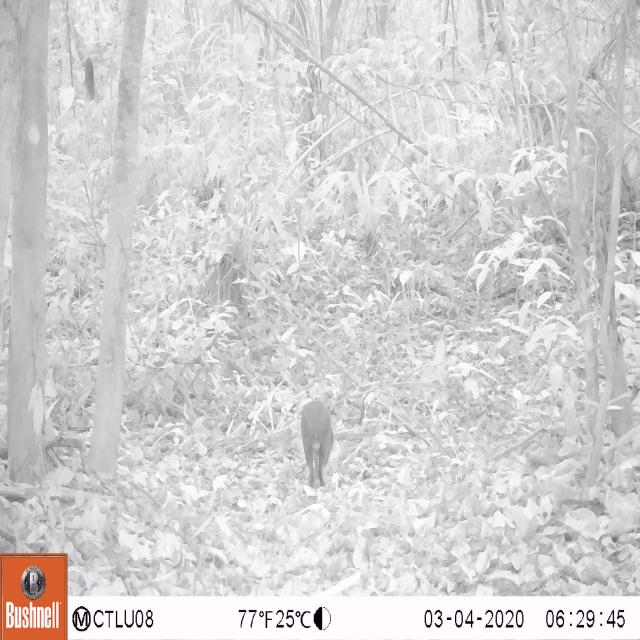Black Agouti: (292, 394, 339, 494)
